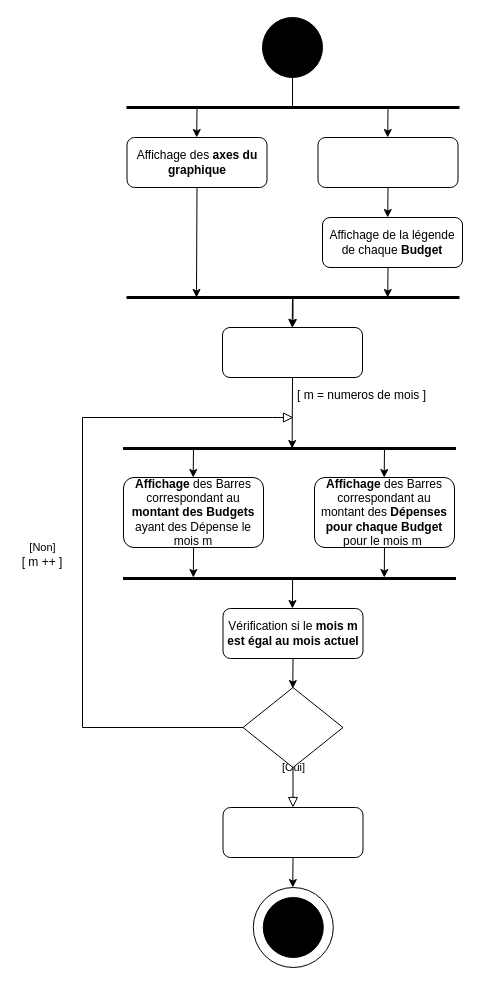
Some shapes in this 480 by 985 pixel diagram are drawn without their labels. Each missing label, with the box of its shape:
Affichage des Dépenses Récurrente pour les mois restant l'année: (222, 806, 363, 858)
Récuperation du mois de la première Dépense ajouté de l'année: (222, 326, 362, 378)
Récupération de tous les Budgets: (317, 136, 458, 188)
